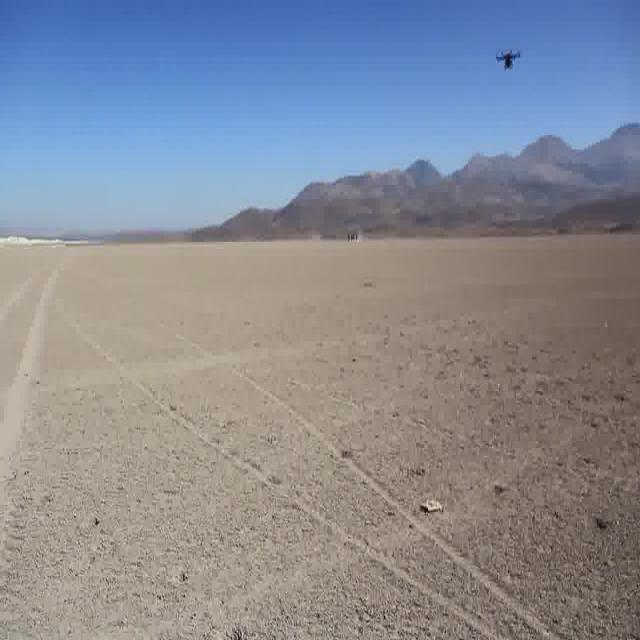drones: (490, 33, 525, 84)
